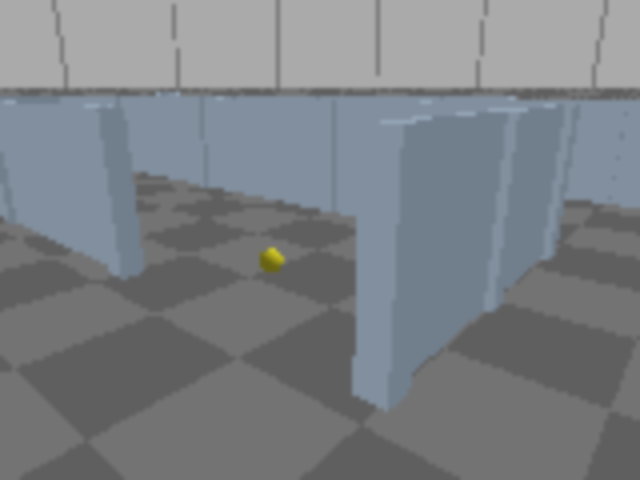puck: (257, 245, 285, 278)
